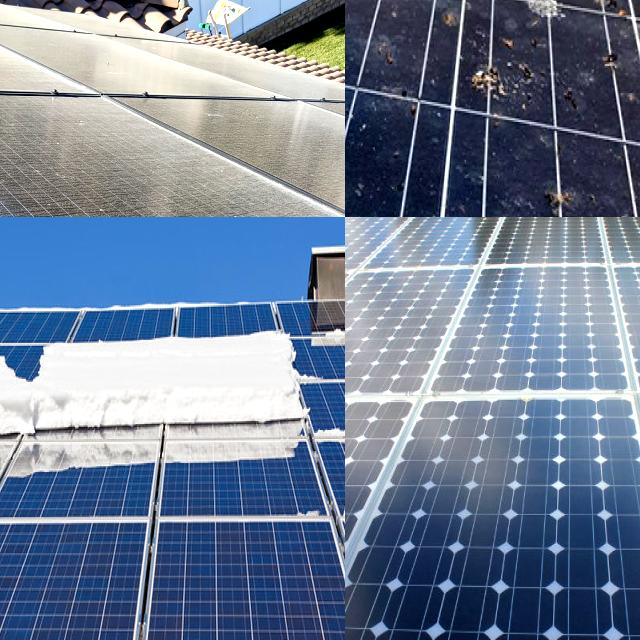bird: (458, 55, 532, 111), (345, 83, 380, 155), (588, 49, 640, 96), (345, 36, 368, 134), (345, 131, 378, 190), (544, 159, 574, 217), (436, 0, 475, 41), (521, 0, 568, 34), (587, 0, 624, 37), (373, 0, 448, 17), (591, 0, 640, 21), (345, 0, 374, 29), (345, 163, 360, 217), (345, 0, 372, 27), (431, 0, 479, 15), (345, 45, 358, 99), (345, 0, 368, 29), (345, 0, 374, 23), (345, 0, 367, 26), (345, 185, 362, 217), (407, 0, 433, 20), (345, 0, 373, 18), (541, 0, 567, 18), (421, 0, 466, 9), (559, 0, 578, 20), (588, 0, 619, 12), (345, 0, 365, 16), (345, 0, 359, 20), (345, 0, 355, 21), (345, 0, 362, 9), (345, 0, 354, 14)
crack: (345, 369, 640, 640), (425, 238, 640, 421), (345, 391, 463, 640), (345, 261, 505, 425)
dust: (269, 109, 345, 203), (0, 113, 63, 217), (0, 182, 155, 217), (0, 102, 70, 170), (167, 185, 294, 217), (88, 106, 144, 176), (0, 185, 18, 217)
panel: (0, 359, 87, 495), (224, 373, 316, 442), (113, 390, 212, 454), (26, 326, 116, 388), (0, 325, 59, 386), (13, 409, 102, 446), (0, 411, 58, 464), (210, 323, 298, 356), (131, 330, 200, 368), (291, 495, 345, 540), (0, 336, 29, 414), (258, 616, 332, 640), (314, 409, 345, 466), (313, 315, 345, 361), (0, 308, 28, 350), (0, 414, 18, 467), (0, 369, 24, 398)
